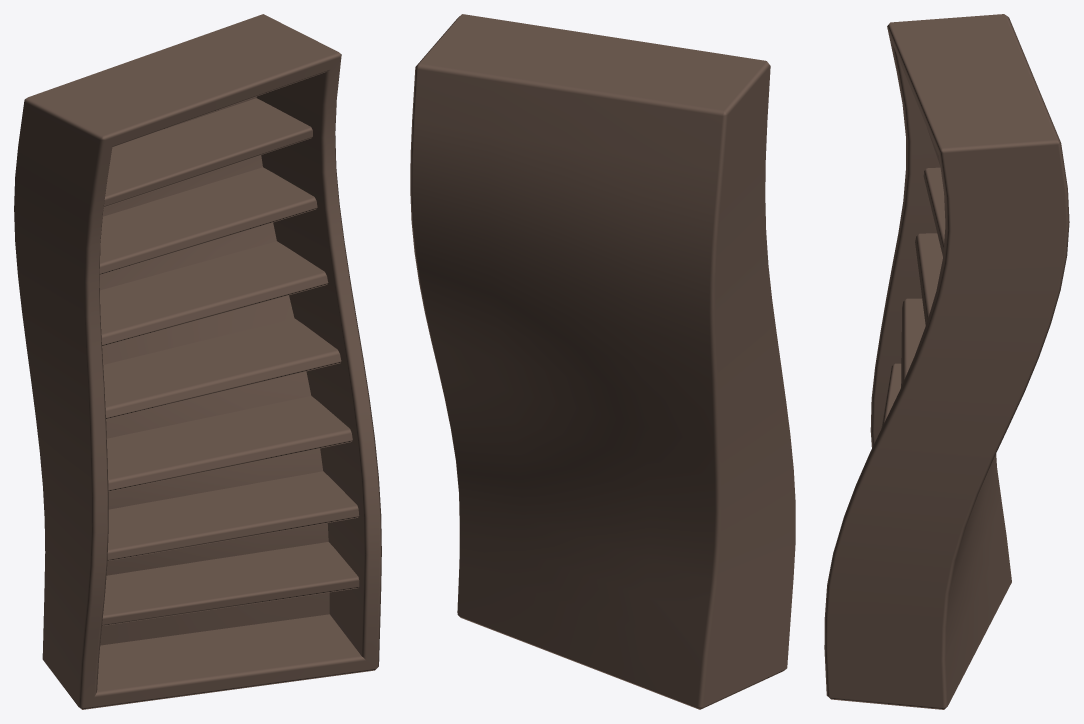
Rendered from Prop_Bookshelf_Empty_C_Mesh.fbx.
3 views of the same model, side by side, from view 1: azimuth 30°, elevation 25°; view 2: azimuth 150°, elevation 25°; view 3: azimuth 270°, elevation 25° (orthographic). The views are drawn at different scales.
Parts seen in each view (by area): view 1: Prop_Bookshelf_Empty_C_Mesh; view 2: Prop_Bookshelf_Empty_C_Mesh; view 3: Prop_Bookshelf_Empty_C_Mesh.
Boxes of the visible parts, left/top/right/bottom form: Prop_Bookshelf_Empty_C_Mesh: left=14, top=14, right=381, bottom=709; Prop_Bookshelf_Empty_C_Mesh: left=410, top=14, right=795, bottom=709; Prop_Bookshelf_Empty_C_Mesh: left=824, top=14, right=1069, bottom=709.
Size of the model in its own units: 2.65 by 5 by 1.98.
